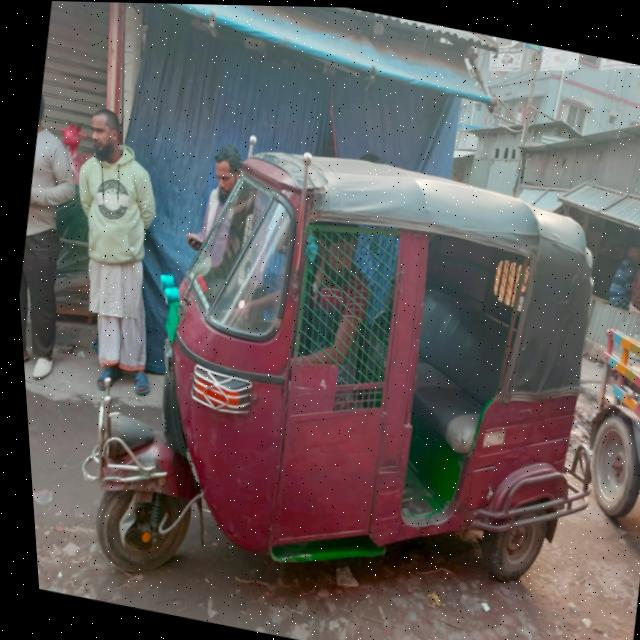cng: (55, 78, 640, 640)
